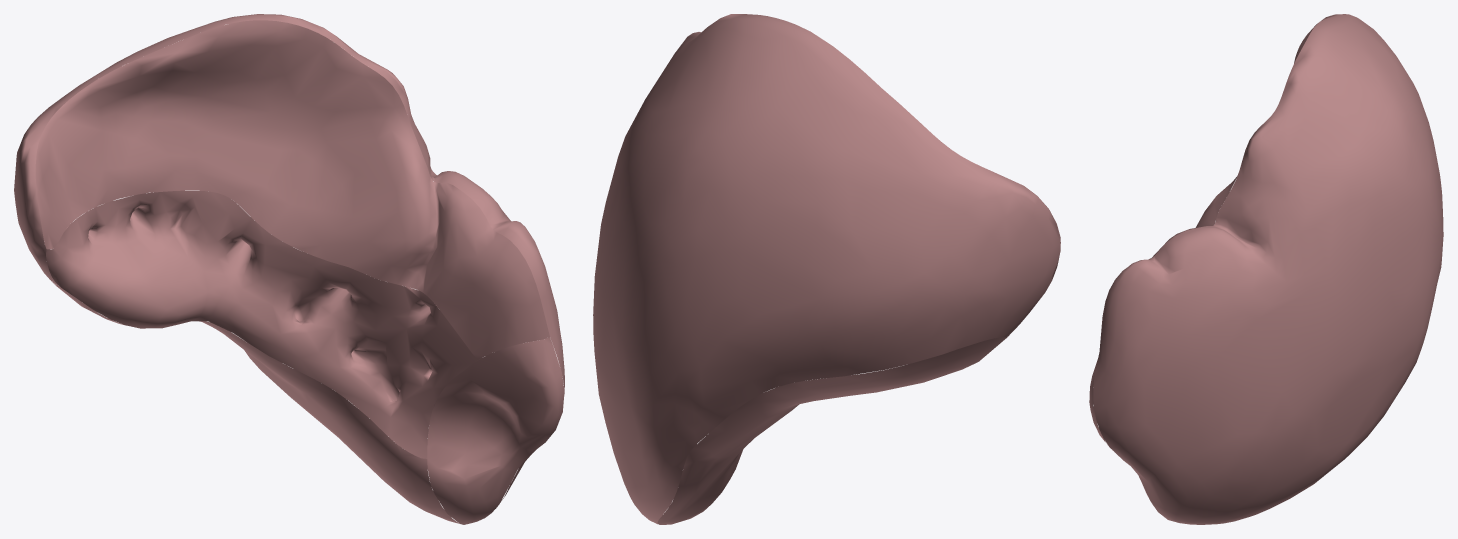
File: vh_m_spleen-20.glb
The picture shows the model from 3 angles, left to right: view 1: azimuth 30°, elevation 25°; view 2: azimuth 150°, elevation 25°; view 3: azimuth 270°, elevation 25°; orthographic projection. The views are drawn at different scales.
Parts seen in each view (by area): view 1: VH_M_gastric_surface_of_spleen, VH_M_hilum_of_spleen, VH_M_colic_surface_of_spleen, VH_M_diaphragmatic_surface_of_spleen, VH_M_renal_surface_of_spleen; view 2: VH_M_diaphragmatic_surface_of_spleen, VH_M_renal_surface_of_spleen; view 3: VH_M_diaphragmatic_surface_of_spleen, VH_M_gastric_surface_of_spleen.
Part boxes in pixels (x1=…): VH_M_gastric_surface_of_spleen: x1=35, y1=20, x2=549, y2=359; VH_M_hilum_of_spleen: x1=46, y1=190, x2=477, y2=458; VH_M_colic_surface_of_spleen: x1=427, y1=337, x2=564, y2=524; VH_M_diaphragmatic_surface_of_spleen: x1=14, y1=14, x2=564, y2=508; VH_M_renal_surface_of_spleen: x1=51, y1=281, x2=459, y2=523; VH_M_diaphragmatic_surface_of_spleen: x1=593, y1=14, x2=1060, y2=524; VH_M_renal_surface_of_spleen: x1=657, y1=337, x2=1007, y2=524; VH_M_diaphragmatic_surface_of_spleen: x1=1093, y1=14, x2=1443, y2=524; VH_M_gastric_surface_of_spleen: x1=1149, y1=28, x2=1313, y2=259.
Size of the model in its own units: 0.1105 by 0.1186 by 0.0886.
